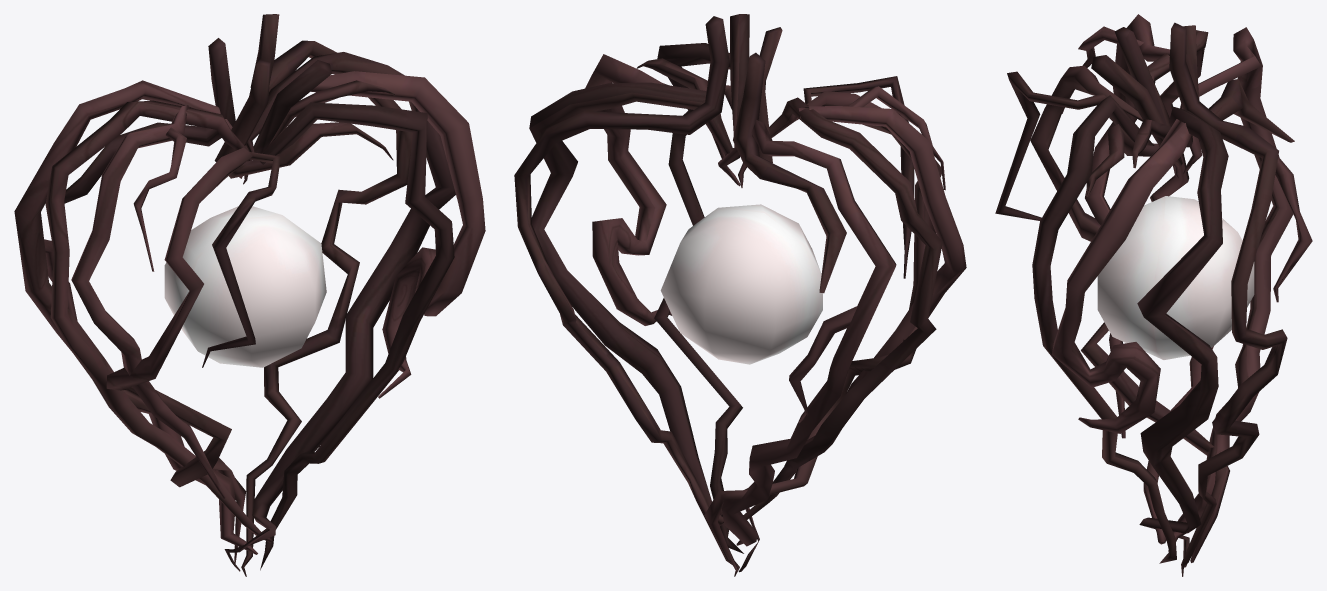
File: prop_echo_loom.fbx
The picture shows the model from 3 angles, left to right: view 1: azimuth 30°, elevation 25°; view 2: azimuth 150°, elevation 25°; view 3: azimuth 270°, elevation 25°; orthographic projection. The views are drawn at different scales.
Parts seen in each view (by area): view 1: Telar del eco, Telar del eco centro; view 2: Telar del eco, Telar del eco centro; view 3: Telar del eco, Telar del eco centro.
Boxes of the visible parts, bbox=[...] form: Telar del eco: bbox=[14, 14, 485, 576]; Telar del eco centro: bbox=[164, 206, 326, 367]; Telar del eco: bbox=[514, 14, 966, 576]; Telar del eco centro: bbox=[660, 204, 822, 364]; Telar del eco: bbox=[995, 14, 1312, 576]; Telar del eco centro: bbox=[1097, 196, 1254, 359].
Size of the model in its own units: 144 by 190 by 97.23.
2 materials, 2 textured.
